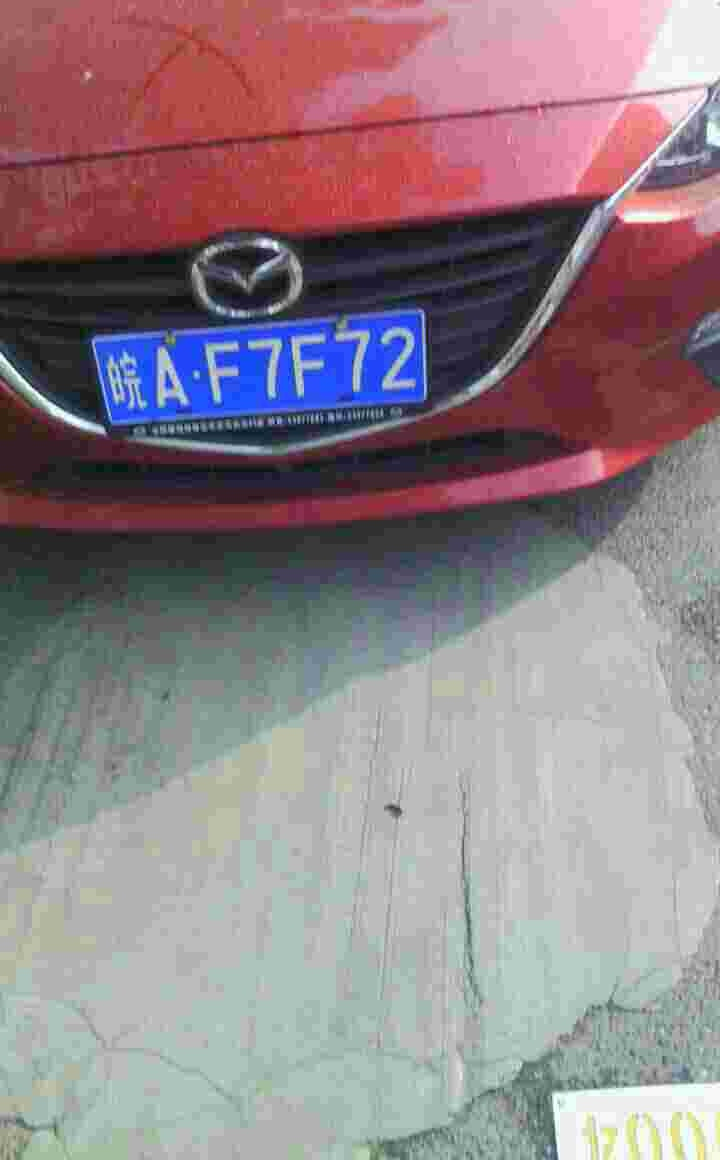license_plate: (97, 315, 438, 425)
